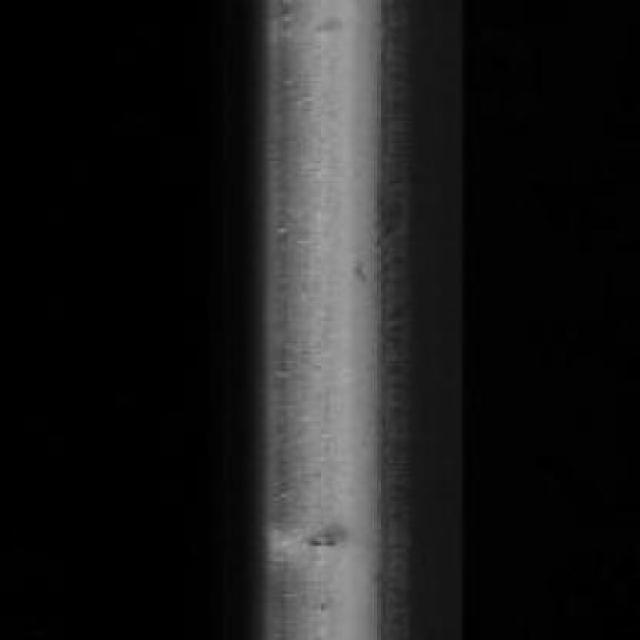non-defective: (211, 0, 528, 640)
